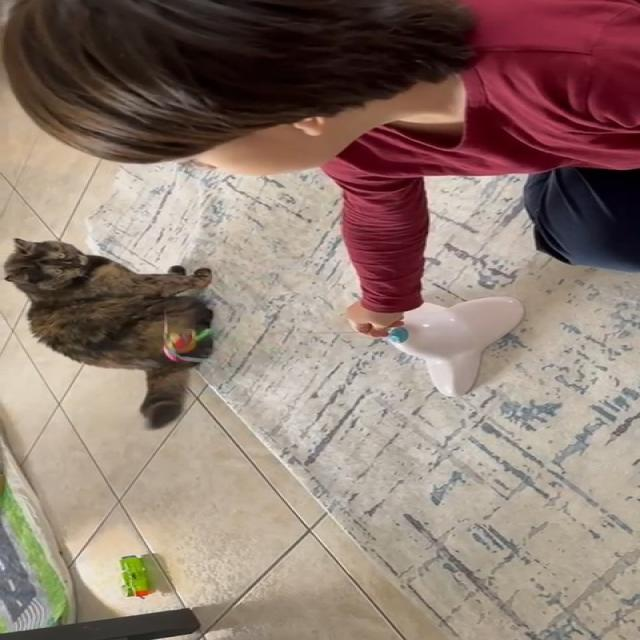authorized: (2, 237, 214, 429)
